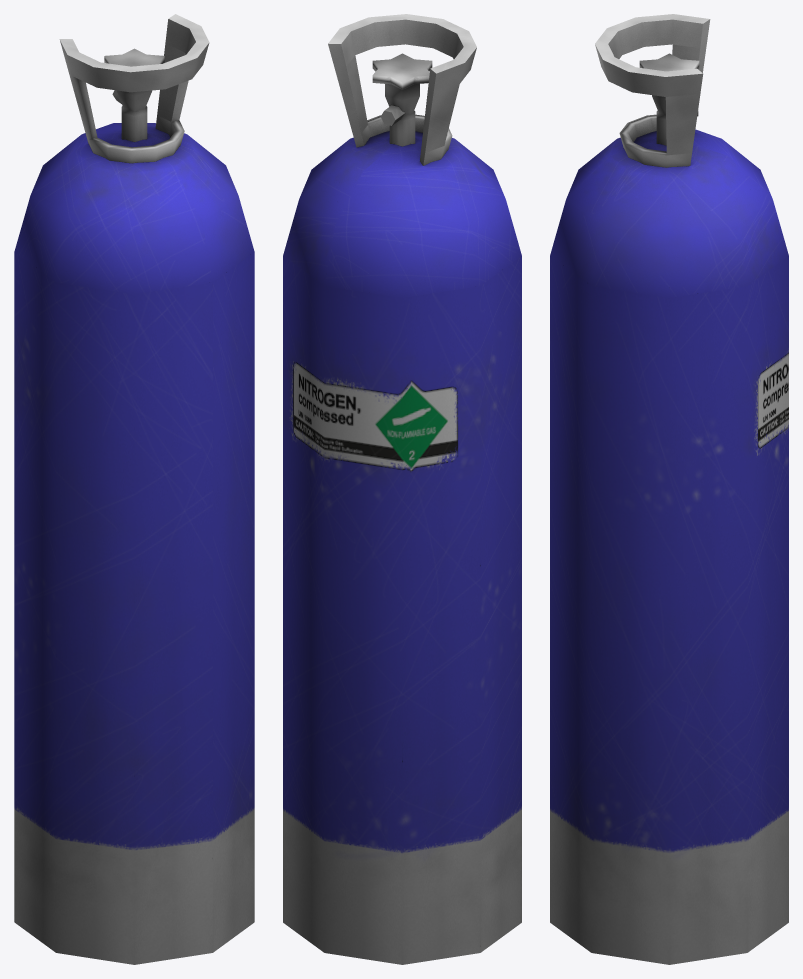
Rendered from gasCylinder_L.fbx.
3 views of the same model, side by side, from view 1: azimuth 30°, elevation 25°; view 2: azimuth 150°, elevation 25°; view 3: azimuth 270°, elevation 25° (orthographic).
Visible parts, largest first — view 1: gasCylinder_L; view 2: gasCylinder_L; view 3: gasCylinder_L.
Part boxes in pixels (bbox=[...]): gasCylinder_L: bbox=[14, 14, 254, 964]; gasCylinder_L: bbox=[283, 14, 521, 964]; gasCylinder_L: bbox=[550, 14, 788, 964].
Bounding box in the file's own units: 0.1657 × 0.6744 × 0.1682.
1 material, 1 textured.
